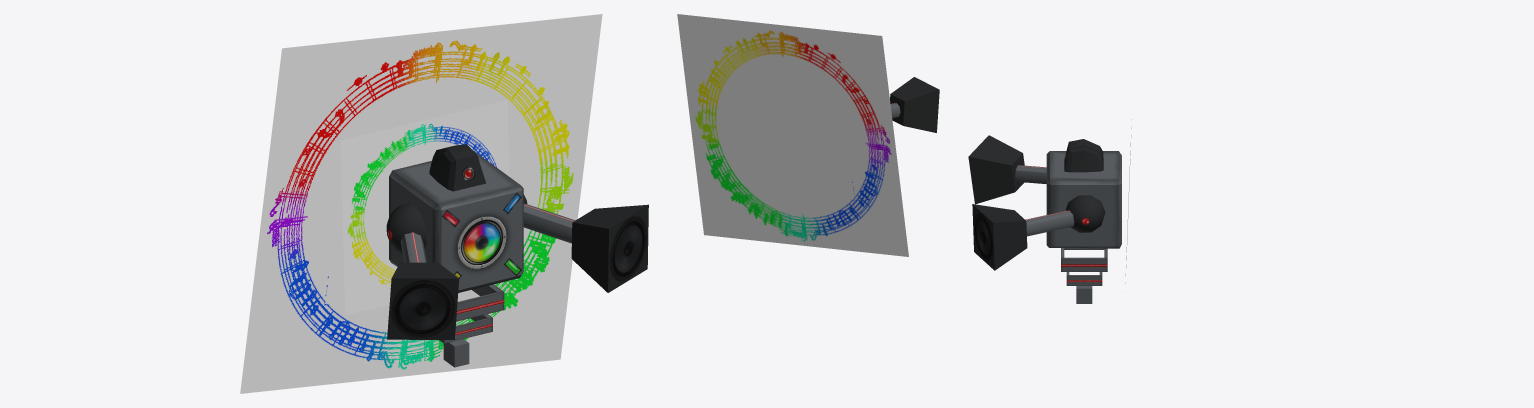
File: body.fbx
3 views of the same model, side by side, from view 1: azimuth 30°, elevation 25°; view 2: azimuth 150°, elevation 25°; view 3: azimuth 270°, elevation 25° (orthographic). The views are drawn at different scales.
Parts seen in each view (by area): view 1: pPlane2, pPlane3, pCube1, polySurface9, polySurface10, pCube2, pCube3, pCube9, pCube8; view 2: pPlane2, polySurface9; view 3: pCube1, polySurface10, polySurface9, pCube2, pCube3.
Boxes of the visible parts, x1=… form: pPlane2: x1=240, y1=14, x2=602, y2=393; pPlane3: x1=340, y1=100, x2=509, y2=315; pCube1: x1=389, y1=150, x2=523, y2=292; polySurface9: x1=386, y1=203, x2=459, y2=339; polySurface10: x1=523, y1=194, x2=648, y2=292; pCube2: x1=429, y1=144, x2=486, y2=191; pCube3: x1=456, y1=284, x2=504, y2=321; pCube9: x1=439, y1=314, x2=492, y2=343; pCube8: x1=443, y1=339, x2=469, y2=367; pPlane2: x1=677, y1=14, x2=908, y2=256; polySurface9: x1=890, y1=77, x2=939, y2=132; pCube1: x1=1046, y1=151, x2=1121, y2=248; polySurface10: x1=972, y1=195, x2=1105, y2=270; polySurface9: x1=968, y1=135, x2=1046, y2=204; pCube2: x1=1064, y1=139, x2=1103, y2=172; pCube3: x1=1061, y1=248, x2=1107, y2=271.
Bounding box in the file's own units: 40.96 × 40.96 × 73.16.
